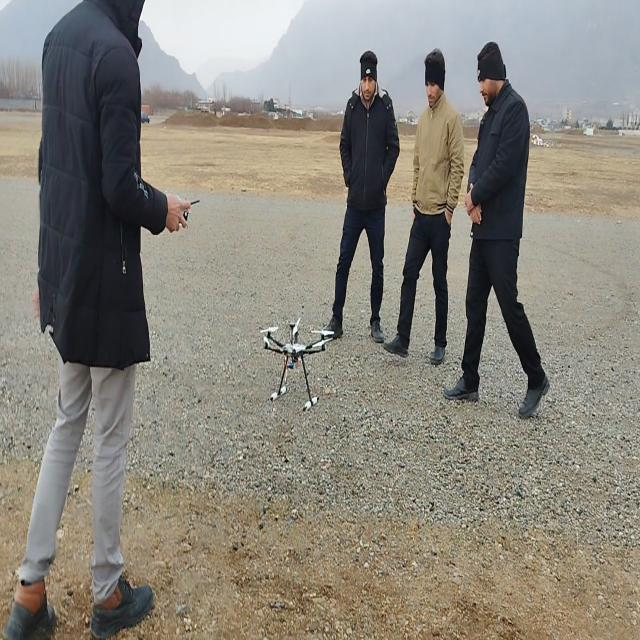drone: (261, 320, 333, 411)
